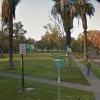Palm tree: (53, 1, 99, 52)
